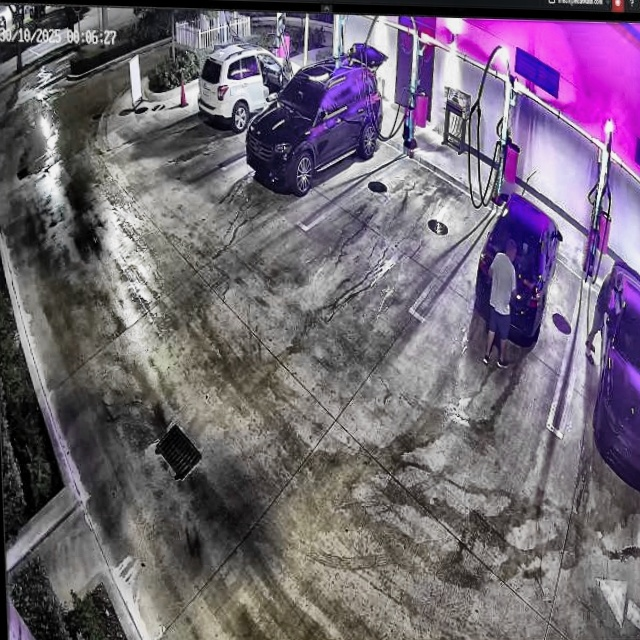Car: (242, 51, 386, 191), (474, 187, 565, 348)
